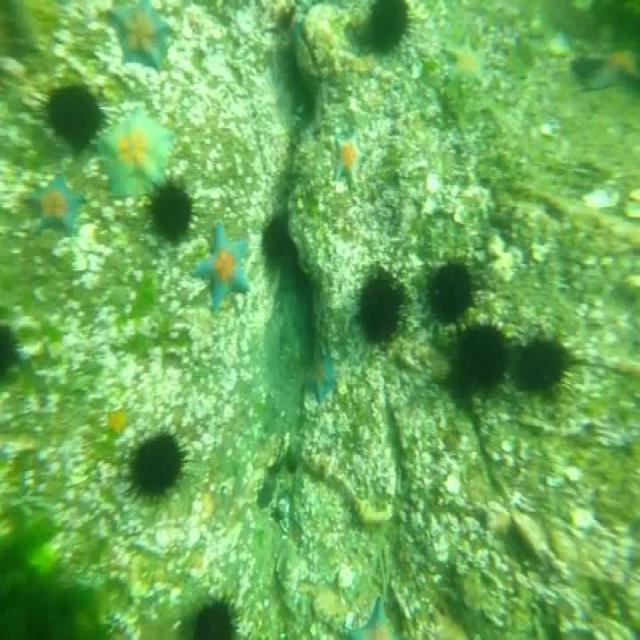echinus: (127, 427, 185, 504), (449, 326, 510, 394), (357, 270, 408, 348), (424, 258, 479, 326), (514, 330, 573, 392), (48, 81, 101, 147), (146, 177, 192, 245), (193, 599, 243, 640), (367, 2, 410, 49), (264, 223, 290, 254), (0, 324, 13, 384)
scallop: (511, 504, 554, 563), (488, 237, 515, 280), (585, 183, 622, 210), (428, 171, 444, 196)
starfish: (104, 98, 172, 202), (195, 216, 252, 313), (111, 2, 169, 79), (23, 174, 79, 235), (448, 28, 486, 92), (356, 599, 396, 640), (302, 349, 332, 402), (334, 128, 363, 182)
